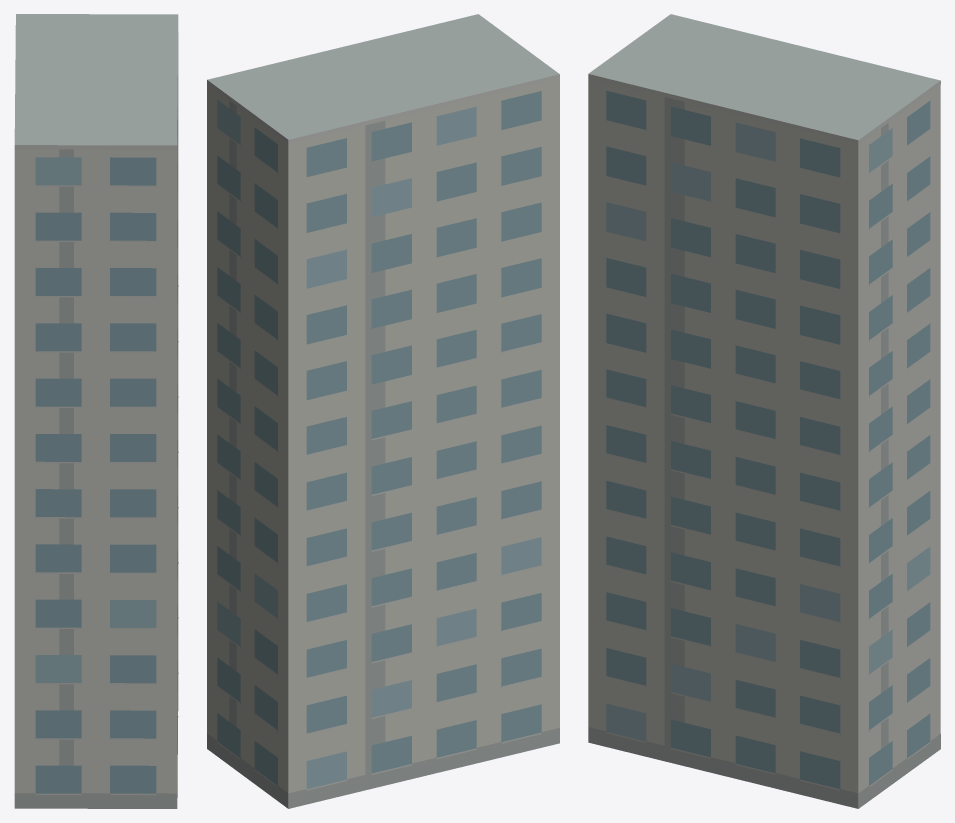
File: residential-bd3b6bce-0fdd-4f6b-aadf-4ac0a5185dd0.glb
The picture shows the model from 3 angles, left to right: view 1: azimuth 30°, elevation 25°; view 2: azimuth 150°, elevation 25°; view 3: azimuth 270°, elevation 25°; orthographic projection.
Visible parts, largest first — view 1: residential-bd3b6bce-0fdd-4f6b-aadf-4ac0a5185dd0.tmp; view 2: residential-bd3b6bce-0fdd-4f6b-aadf-4ac0a5185dd0.tmp; view 3: residential-bd3b6bce-0fdd-4f6b-aadf-4ac0a5185dd0.tmp.
Boxes of the visible parts, left/top/right/bottom form: residential-bd3b6bce-0fdd-4f6b-aadf-4ac0a5185dd0.tmp: left=14, top=14, right=178, bottom=808; residential-bd3b6bce-0fdd-4f6b-aadf-4ac0a5185dd0.tmp: left=207, top=14, right=559, bottom=808; residential-bd3b6bce-0fdd-4f6b-aadf-4ac0a5185dd0.tmp: left=588, top=14, right=940, bottom=808.
Bounding box in the file's own units: 15.4 × 38 × 18.17.
